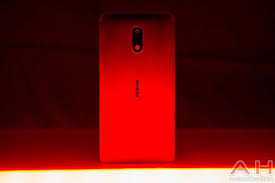nokia: (95, 10, 178, 167)
